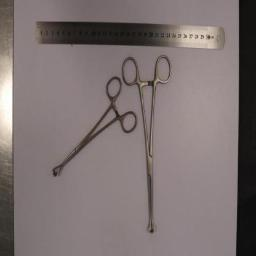Babcock Tissue Forceps: (53, 78, 137, 176)
